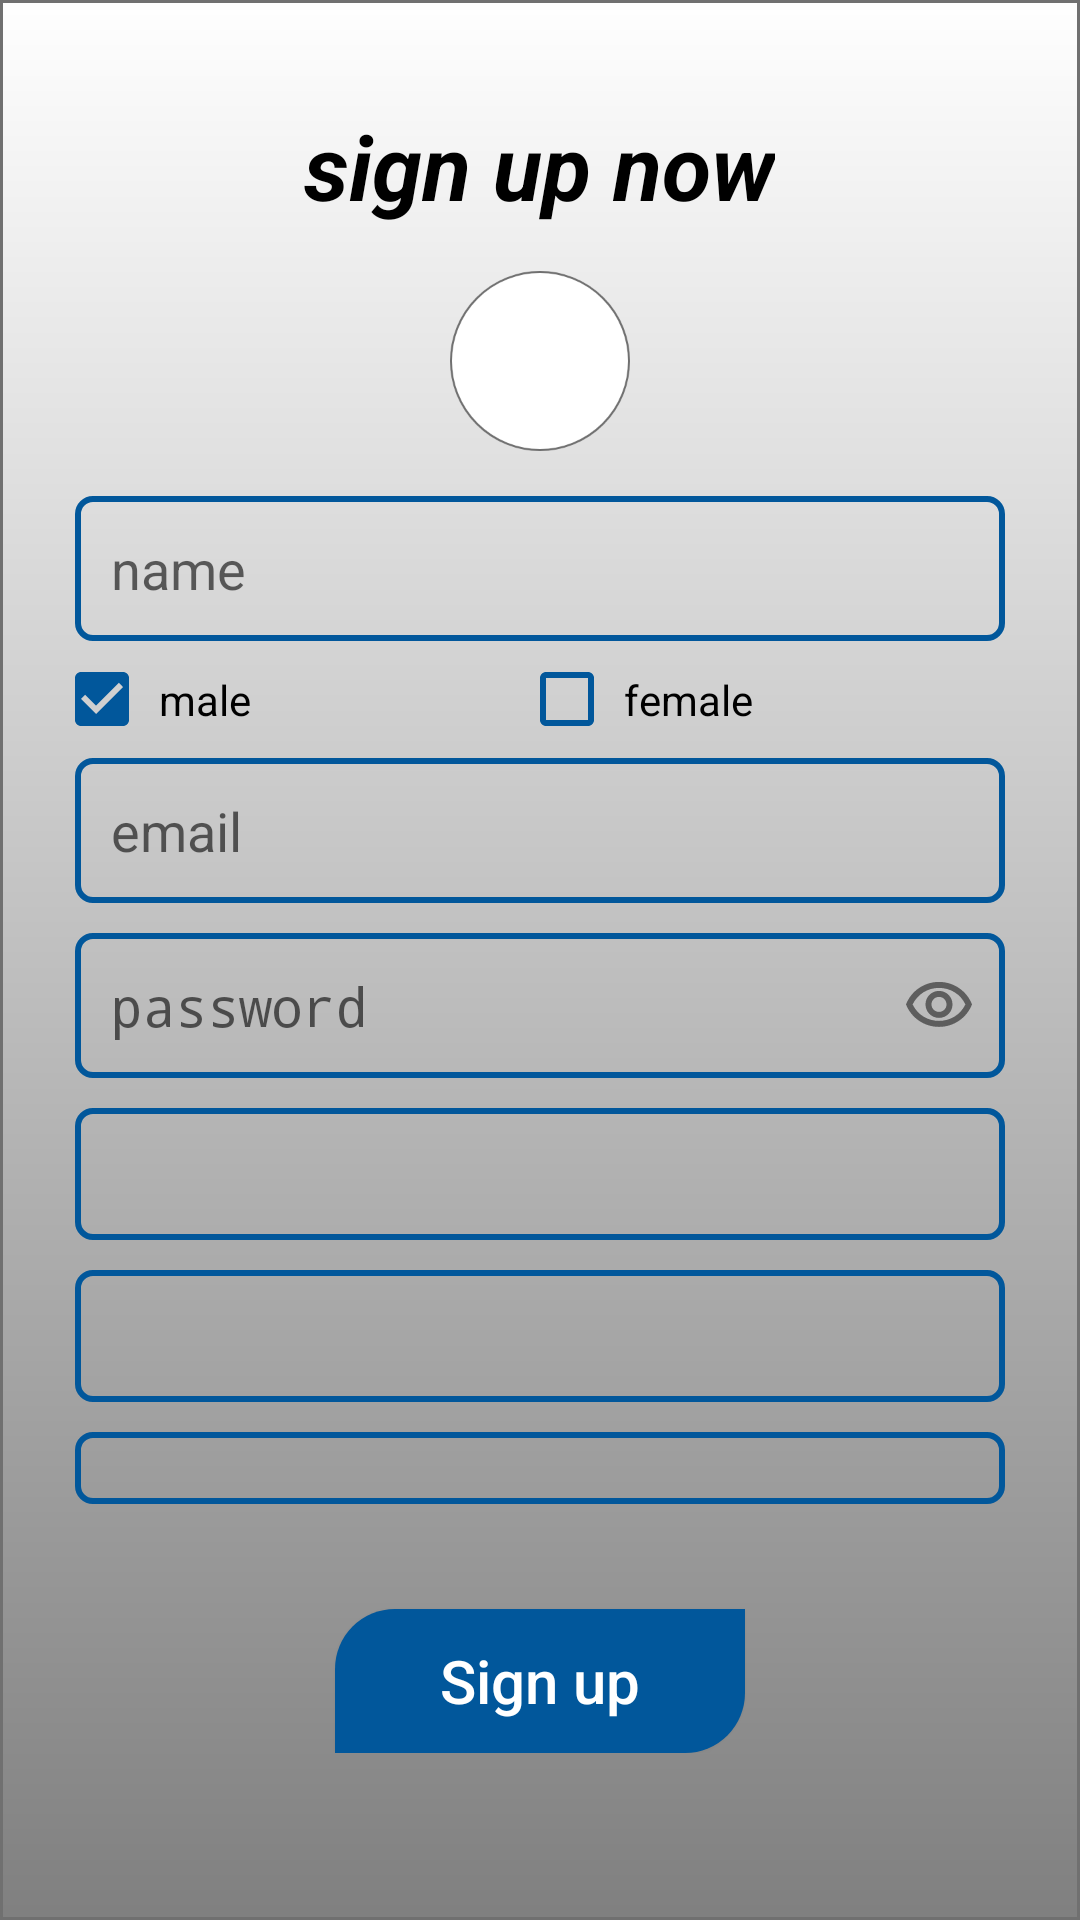

Named icons in this screenshot (1080w x 1920h) and their bounding boxes, (x1, y1, x2, y2):
visibility: (906, 982, 972, 1027)
